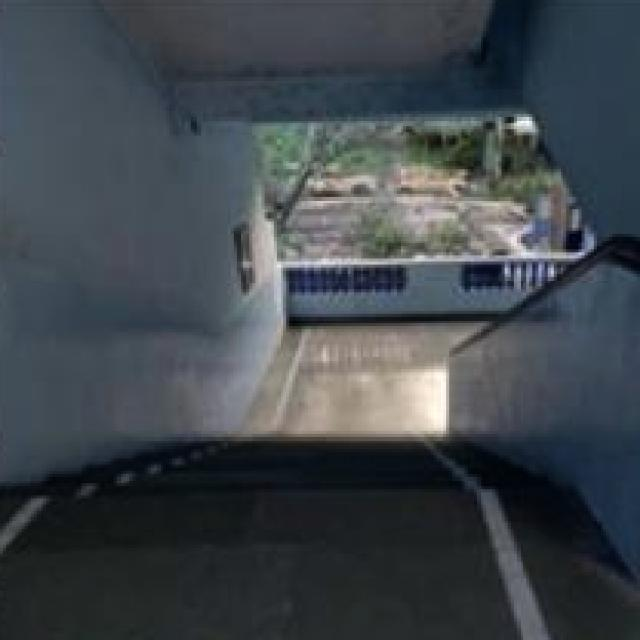downstair: (109, 395, 503, 561)
